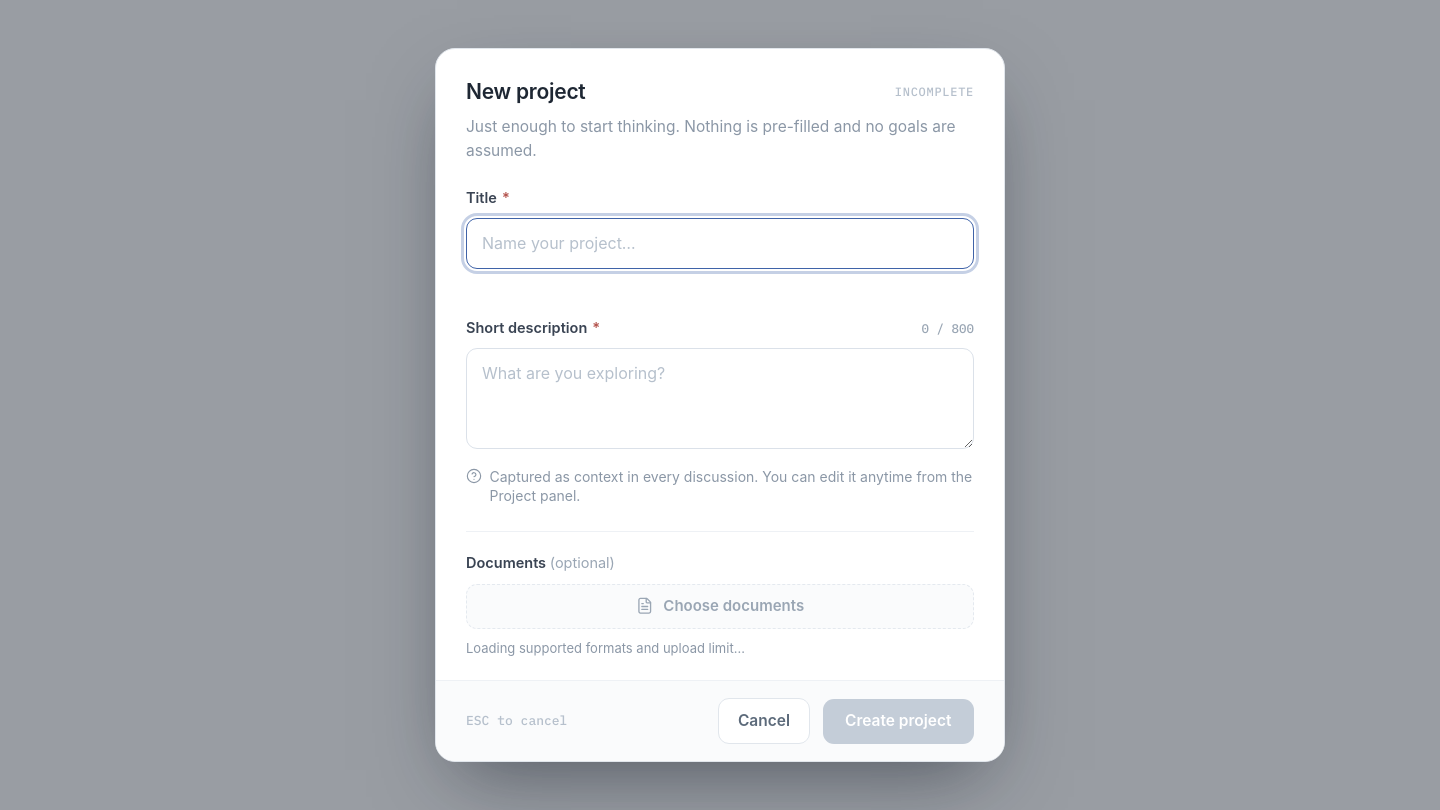
CreateProjectDialog › starts focused and becomes ready when both trimmed fields are valid
Expected: the button "Create project" is disabled, [822,699,974,744]
Type "  Launch plan  " into the field labelled "Title *" at {"x": 720, "y": 243}, box [466,218,974,268]
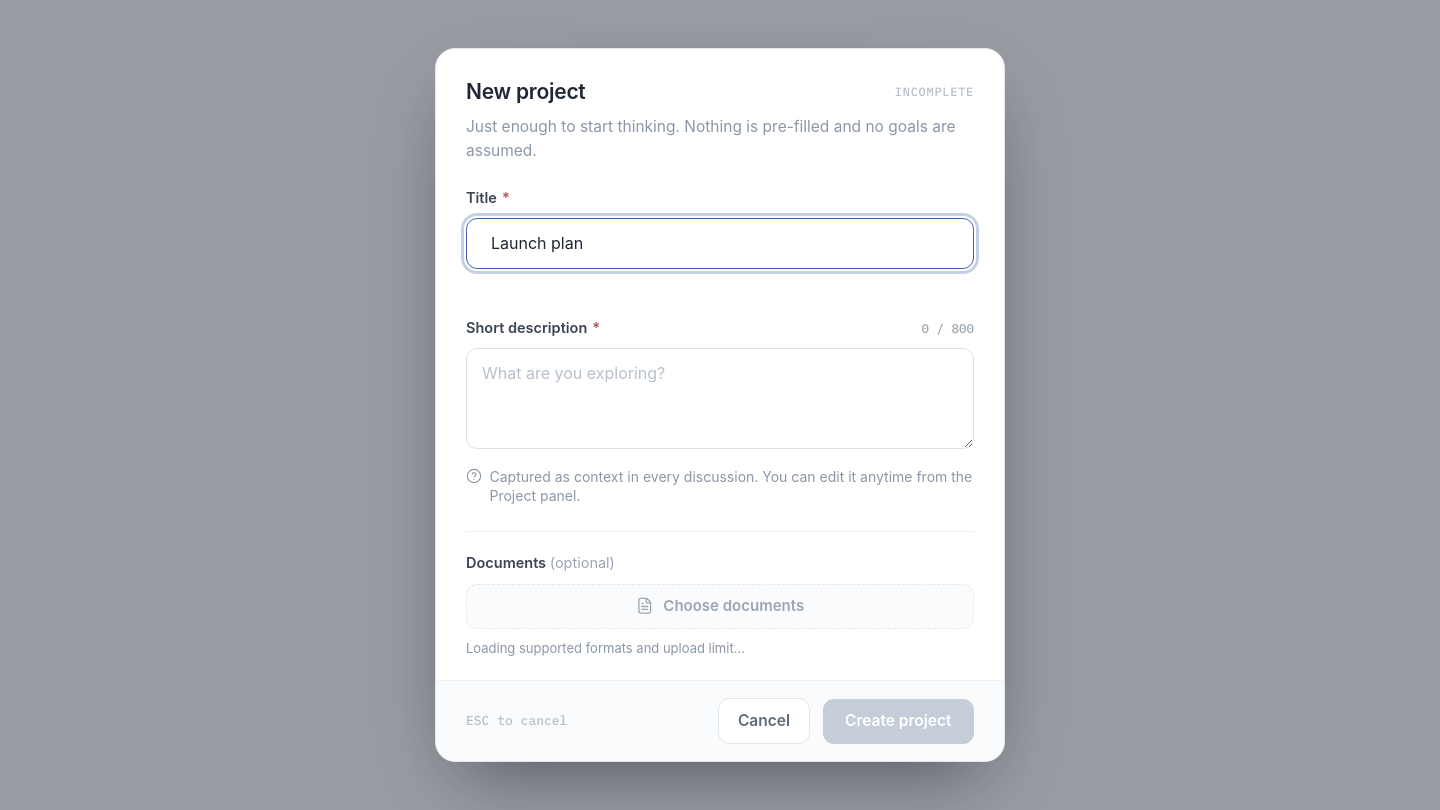
Type "  Explore the launch constraints.  " into the text box labelled "Short description * 0 / 800" at {"x": 720, "y": 398}, box [466,348,974,449]
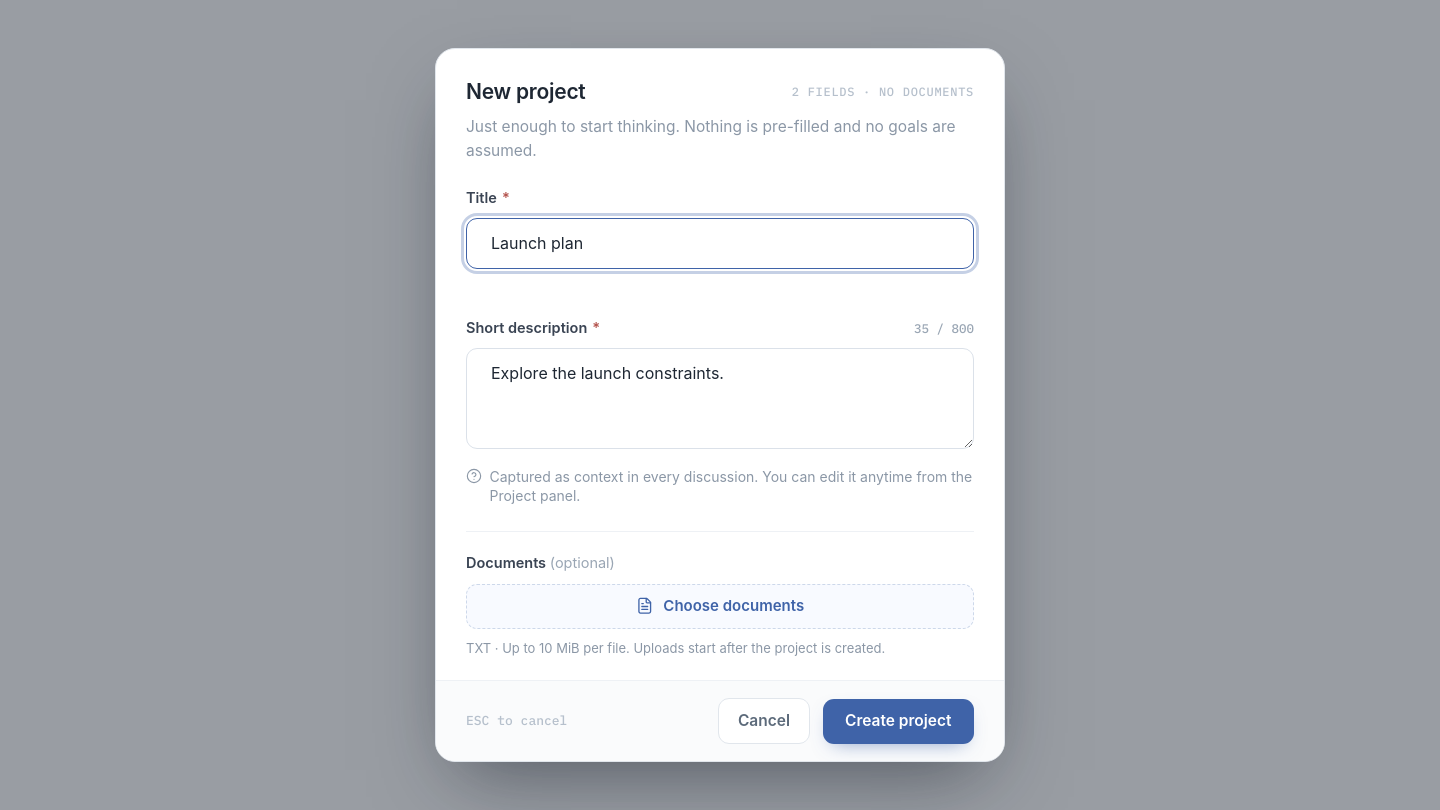
Result: the button "Create project" is enabled at [822,699,974,744]
Result: the text "2 FIELDS · NO DOCUMENTS" is shown at [792,83,974,101]
